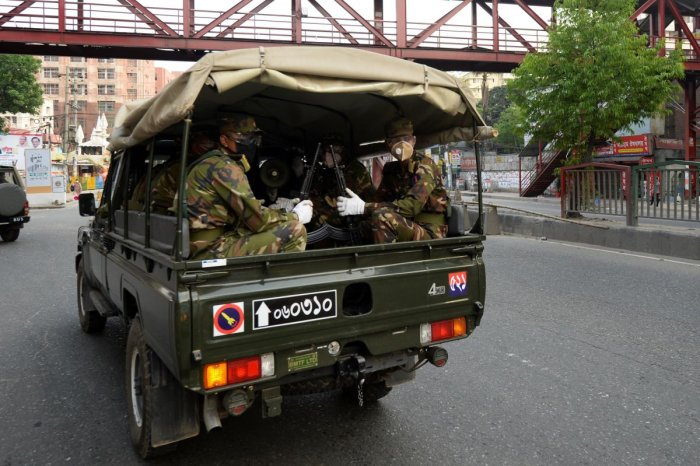army vehicle: (75, 47, 488, 464)
